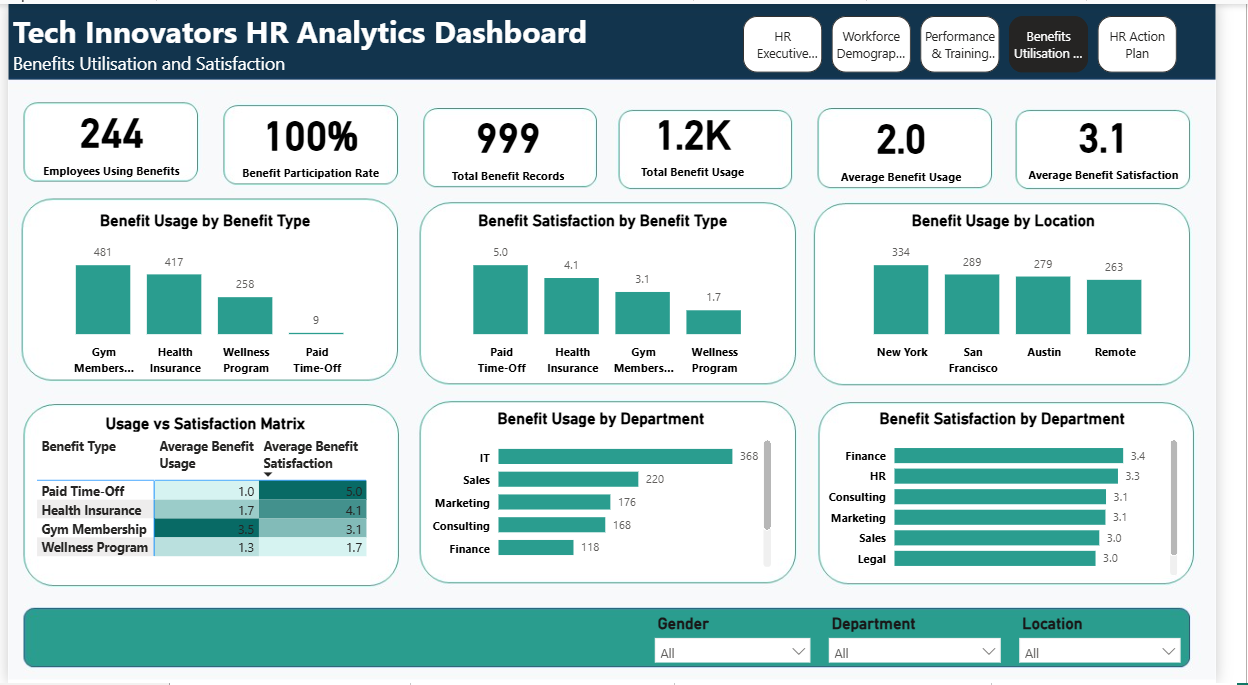

This screenshot's page, from the dashboard's own definition file:
{"tool":"powerbi","page":{"name":"Benefits Utilisation & Satisfaction","canvas":[1280,720],"ordinal":3},"visuals":[{"type":"cardVisual","fields":{"Data":["Employee_Benefits_Data.Total Benefit Usage"]},"box":[639.4,106.6,173.4,87.5],"z":0},{"type":"cardVisual","fields":{"Data":["Employee_Benefits_Data.Average Benefit Usage"]},"box":[860.5,111.3,173.4,87.5],"z":1000},{"type":"cardVisual","fields":{"Data":["Employee_Benefits_Data.Average Benefit Satisfaction"]},"box":[1064.1,109.8,195.6,87.5],"z":2000},{"type":"cardVisual","fields":{"Data":["Employee_Benefits_Data.Employees Using Benefits"]},"box":[11.1,101.8,197.2,93.8],"z":3000},{"type":"cardVisual","fields":{"Data":["Employee_Benefits_Data.Benefit Participation Rate"]},"box":[227.5,106.6,187.7,89.1],"z":4000},{"type":"cardVisual","fields":{"Data":["Employee_Benefits_Data.Total Benefit Records"]},"box":[443.8,111.3,173.4,85.9],"z":5000},{"type":"columnChart","title":" Benefit Usage by Benefit Type","fields":{"Category":["Employee_Benefits_Data.Benefit Type"],"Y":["Employee_Benefits_Data.Total Benefit Usage"]},"box":[25,220,367.5,181.2],"z":6000},{"type":"columnChart","title":"Benefit Satisfaction by Benefit Type","fields":{"Category":["Employee_Benefits_Data.Benefit Type"],"Y":["Employee_Benefits_Data.Average Benefit Satisfaction"]},"box":[446.2,220,367.5,181.2],"z":7000},{"type":"pivotTable","title":"Usage vs Satisfaction Matrix","fields":{"Values":["Employee_Benefits_Data.Average Benefit Usage","Employee_Benefits_Data.Average Benefit Satisfaction"],"Rows":["Employee_Benefits_Data.Benefit Type"]},"box":[25,435,367.5,162.5],"z":8000},{"type":"columnChart","title":"Benefit Usage by Location","fields":{"Category":["Employee_Demographics_Data.Location"],"Y":["Employee_Benefits_Data.Total Benefit Usage"]},"box":[871.2,220,367.5,181.2],"z":9000},{"type":"clusteredBarChart","title":"Benefit Usage by Department","fields":{"Category":["Employee_Performance_Data.Department"],"Y":["Employee_Benefits_Data.Total Benefit Usage"]},"box":[443.8,430,370,172.5],"z":10000},{"type":"clusteredBarChart","title":" Benefit Satisfaction by Department","fields":{"Category":["Employee_Performance_Data.Department"],"Y":["Employee_Benefits_Data.Average Benefit Satisfaction"]},"box":[863.8,430,381.2,181.2],"z":11000},{"type":"slicer","fields":{"Values":["Employee_Demographics_Data.Location"]},"box":[1062.3,641.6,190.4,57.1],"z":12000},{"type":"slicer","fields":{"Values":["Employee_Demographics_Data.Gender"]},"box":[675.9,641.6,184.7,57.1],"z":13000},{"type":"slicer","fields":{"Values":["Employee_Performance_Data.Department"]},"box":[860.5,641.6,201.8,57.1],"z":14000},{"type":"textbox","box":[0,1.9,660.6,85.7],"z":15000},{"type":"pageNavigator","box":[778.7,13.3,464.5,60.9],"z":16000},{"type":"actionButton","box":[779.4,12.7,81.1,60.4],"z":17000},{"type":"actionButton","box":[871.7,12.7,89.1,60.4],"z":18000},{"type":"actionButton","box":[960.7,12.7,93.8,60.4],"z":19000},{"type":"actionButton","box":[1151.6,12.7,93.8,60.4],"z":20000}]}

Visuals, with their boxes in screenshot pixels (x1, y1, x2, y2), scaled from the page's 1280x720 canvas onto the 1248x685 screenshot:
cardVisual - Employee_Benefits_Data.Total Benefit Usage: bbox=(623, 101, 792, 185)
cardVisual - Employee_Benefits_Data.Average Benefit Usage: bbox=(839, 106, 1008, 189)
cardVisual - Employee_Benefits_Data.Average Benefit Satisfaction: bbox=(1037, 104, 1228, 188)
cardVisual - Employee_Benefits_Data.Employees Using Benefits: bbox=(11, 97, 203, 186)
cardVisual - Employee_Benefits_Data.Benefit Participation Rate: bbox=(222, 101, 405, 186)
cardVisual - Employee_Benefits_Data.Total Benefit Records: bbox=(433, 106, 602, 188)
" Benefit Usage by Benefit Type" columnChart: bbox=(24, 209, 383, 382)
"Benefit Satisfaction by Benefit Type" columnChart: bbox=(435, 209, 793, 382)
"Usage vs Satisfaction Matrix" pivotTable: bbox=(24, 414, 383, 568)
"Benefit Usage by Location" columnChart: bbox=(849, 209, 1208, 382)
"Benefit Usage by Department" clusteredBarChart: bbox=(433, 409, 793, 573)
" Benefit Satisfaction by Department" clusteredBarChart: bbox=(842, 409, 1214, 581)
slicer - Employee_Demographics_Data.Location: bbox=(1036, 610, 1221, 665)
slicer - Employee_Demographics_Data.Gender: bbox=(659, 610, 839, 665)
slicer - Employee_Performance_Data.Department: bbox=(839, 610, 1036, 665)
textbox: bbox=(0, 2, 644, 83)
pageNavigator: bbox=(759, 13, 1212, 71)
actionButton: bbox=(760, 12, 839, 70)
actionButton: bbox=(850, 12, 937, 70)
actionButton: bbox=(937, 12, 1028, 70)
actionButton: bbox=(1123, 12, 1214, 70)
